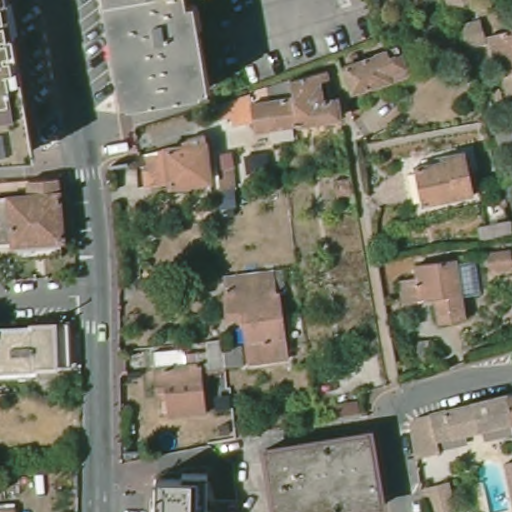pool: (480, 462, 512, 508)
